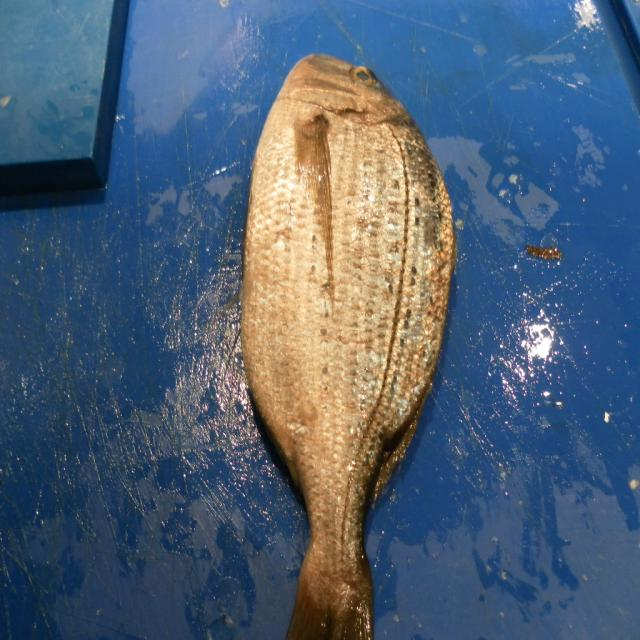Red-Sea-Bream-mercan-: (241, 54, 458, 640)
